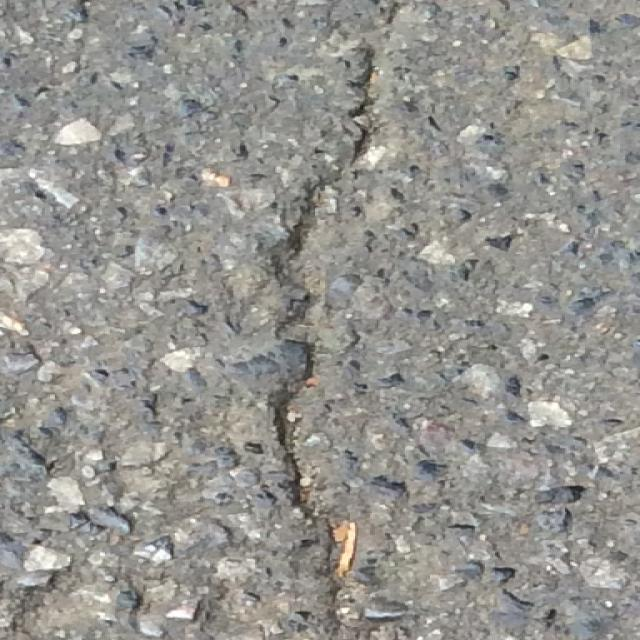Longitudinal: (213, 0, 409, 640)
